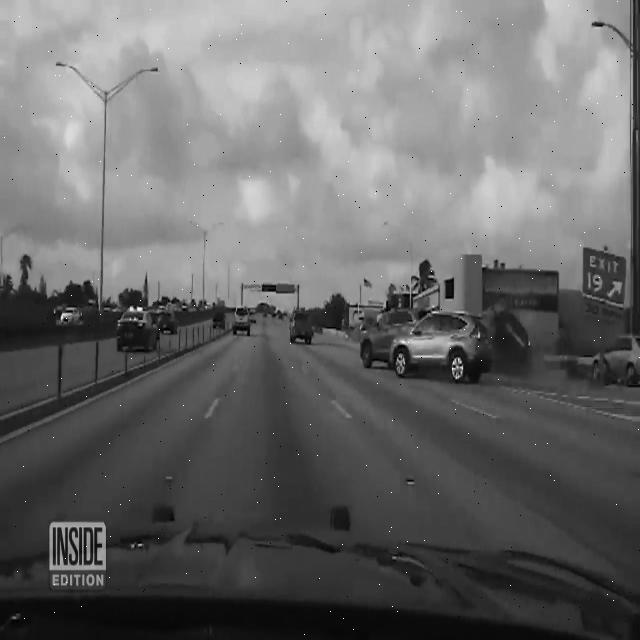accident: (479, 290, 537, 373)
